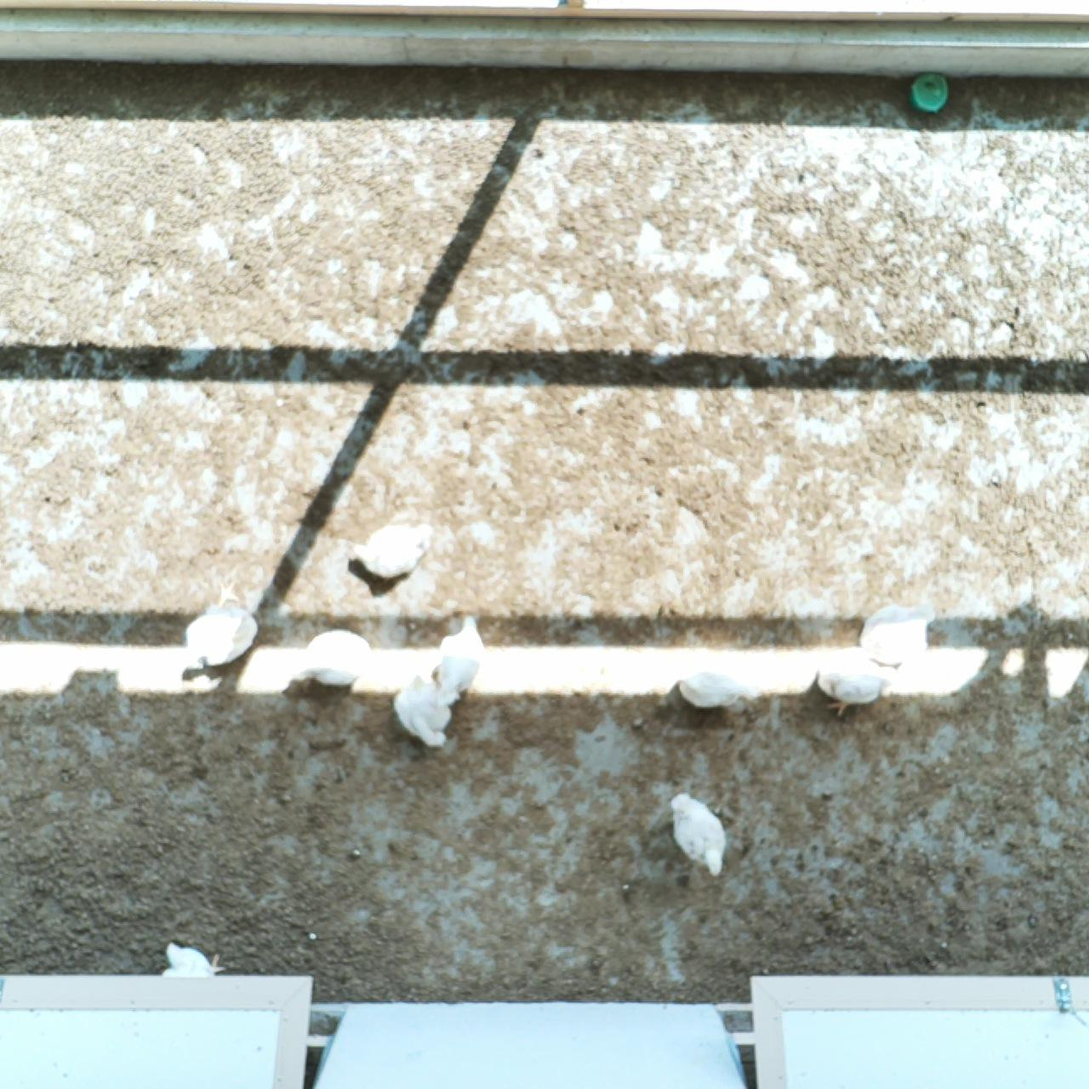chicken: (812, 643, 896, 717), (857, 597, 938, 666), (182, 601, 258, 673), (348, 522, 436, 580), (393, 670, 456, 751), (160, 942, 226, 1019), (670, 789, 727, 878), (434, 614, 486, 706), (294, 629, 372, 690), (670, 660, 760, 710)
